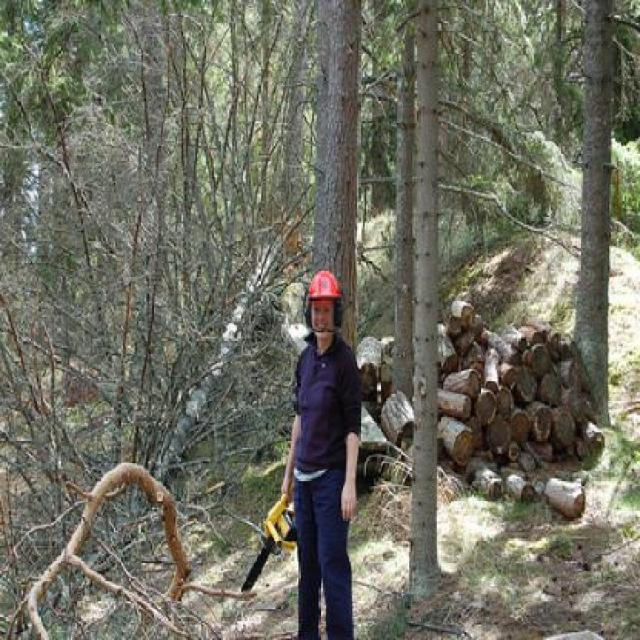Chainsaw: (241, 496, 297, 596)
